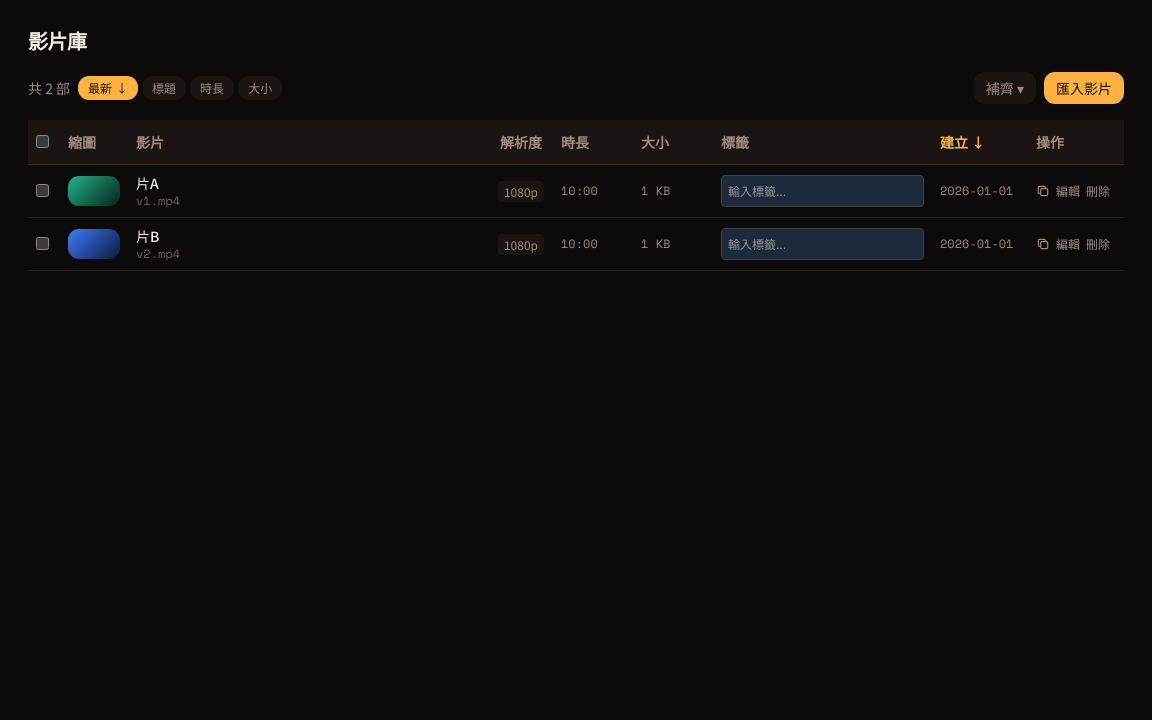
VideoManagePage (library) › asks before a batch delete, and deletes nothing when cancelled
Click the checkbox named "選取 片A" at (42, 190), box [36, 184, 49, 197]
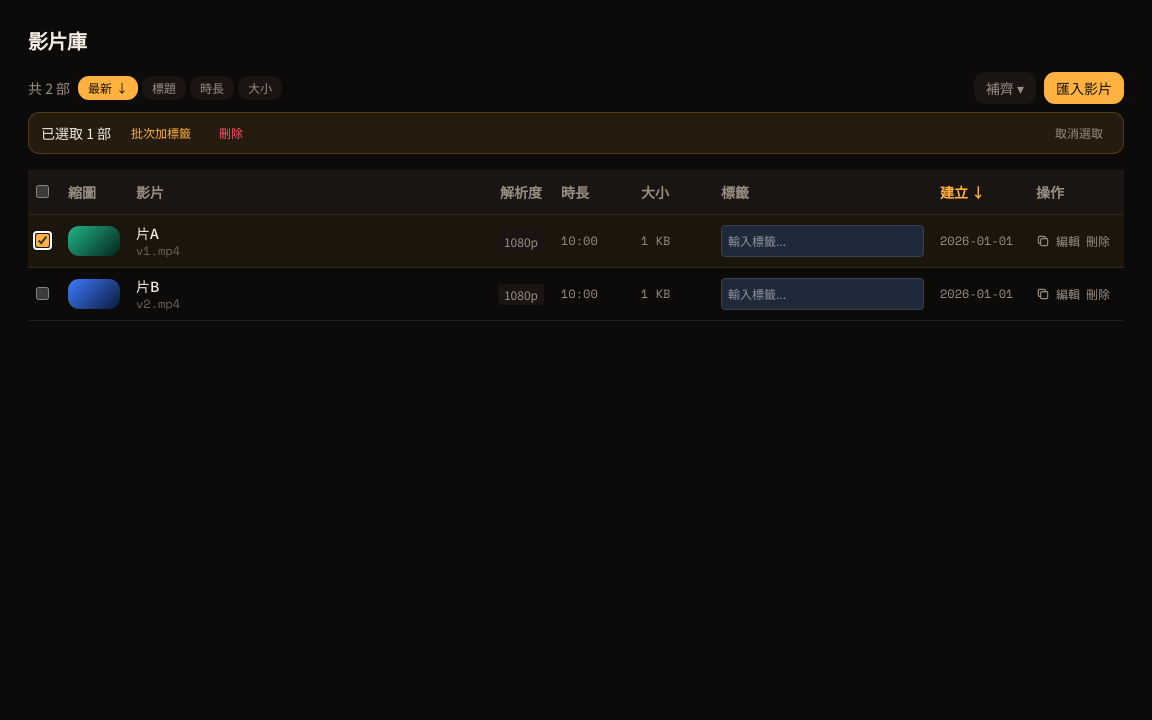
Click the checkbox named "選取 片B" at (42, 294), box [36, 287, 49, 300]
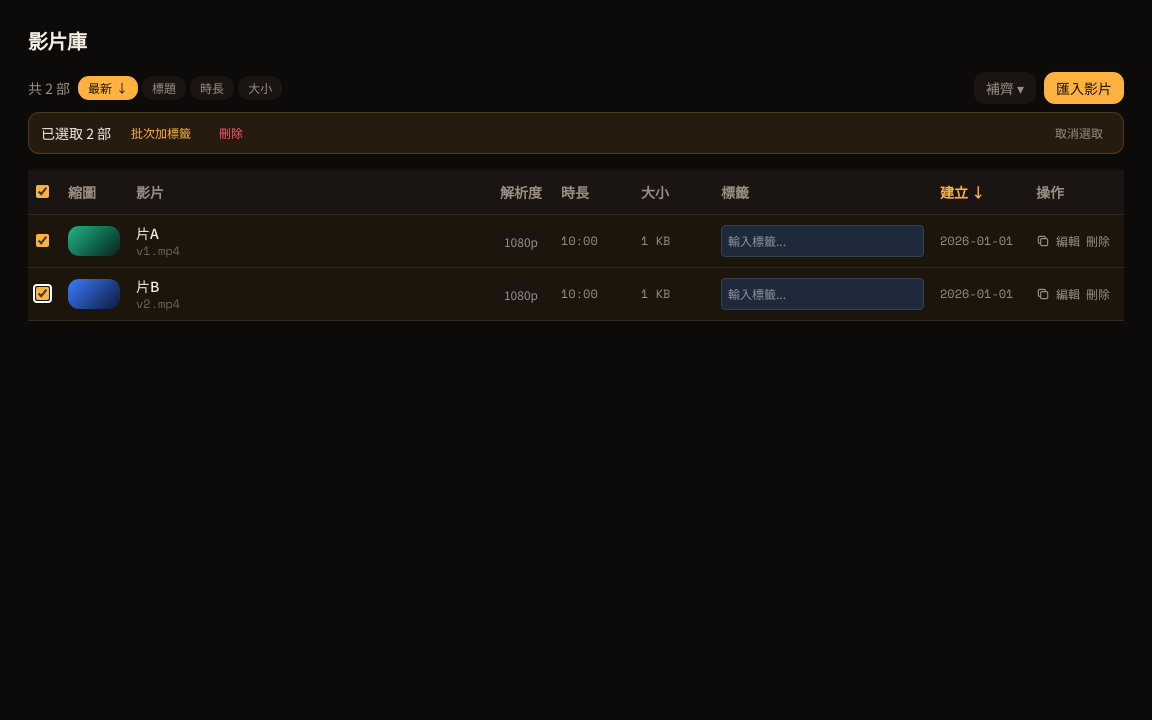
Click the button "刪除" in the row of "已選取" at (231, 133), box [211, 121, 251, 145]
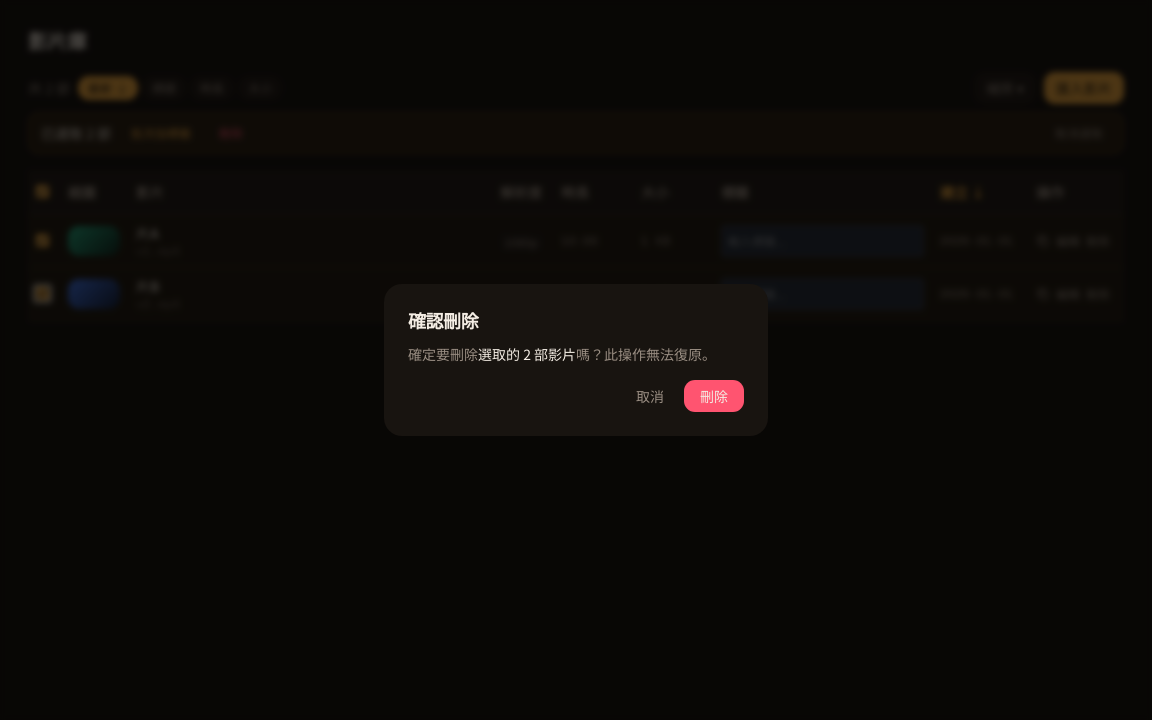
Expected: the dialog shows "選取的 2 部影片", [478, 344, 576, 364]
Click the button "取消" at (650, 396), box [624, 380, 676, 412]
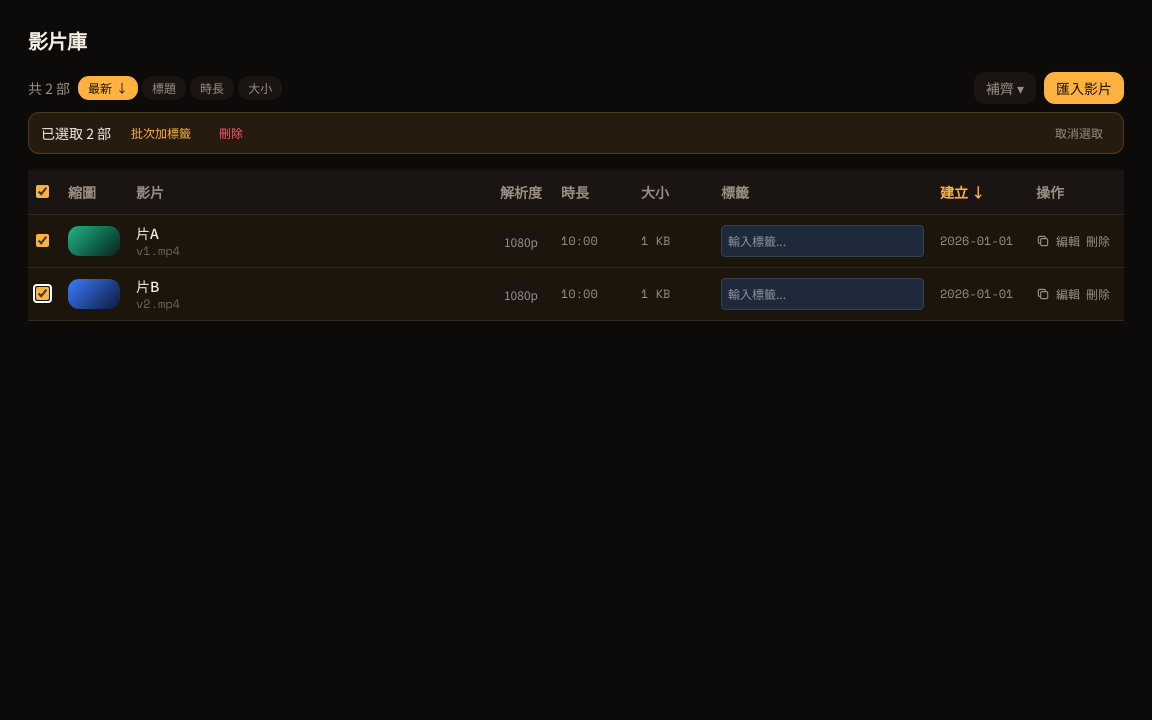
Expected: the dialog is gone
